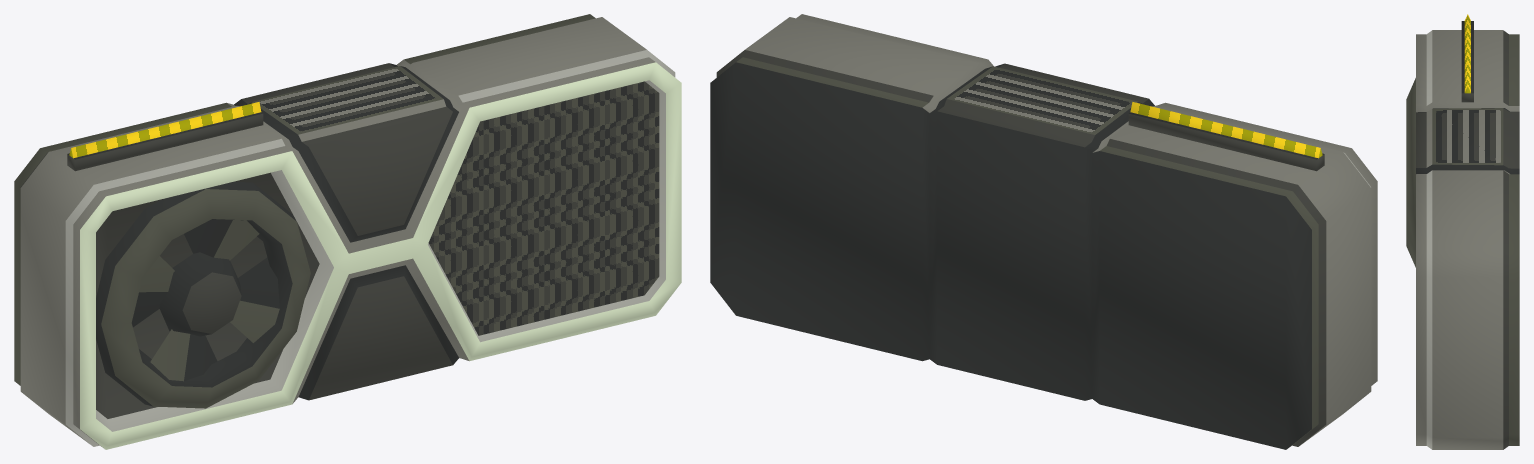
Rendered from gpu.glb.
3 renders of one model, left to right at view 1: azimuth 30°, elevation 25°; view 2: azimuth 150°, elevation 25°; view 3: azimuth 270°, elevation 25°, orthographic. The views are drawn at different scales.
Parts seen in each view (by area): view 1: Plane.050; view 2: Plane.050; view 3: Plane.050.
Part boxes in pixels (bbox=[...]): Plane.050: bbox=[14, 14, 681, 449]; Plane.050: bbox=[710, 14, 1377, 449]; Plane.050: bbox=[1406, 14, 1519, 449].
Size of the model in its own units: 0.5438 by 0.2413 by 0.1112.
1 material, 1 textured.
